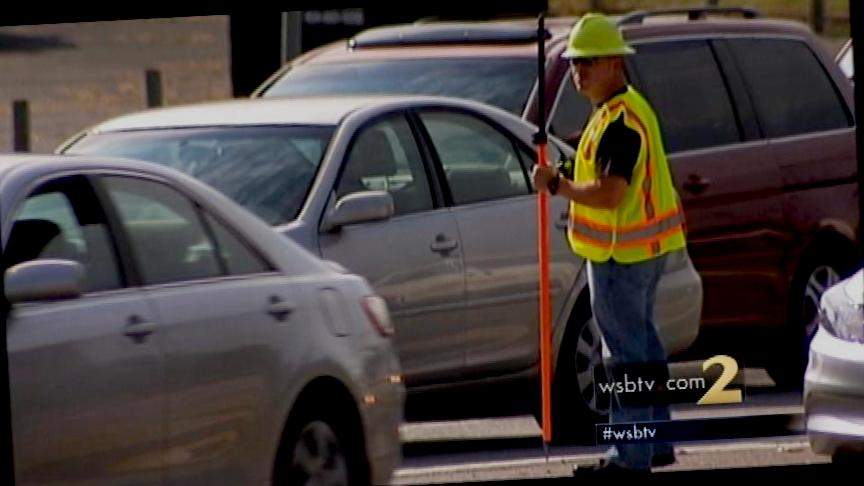helmet: (556, 9, 639, 70)
person: (555, 7, 697, 378)
